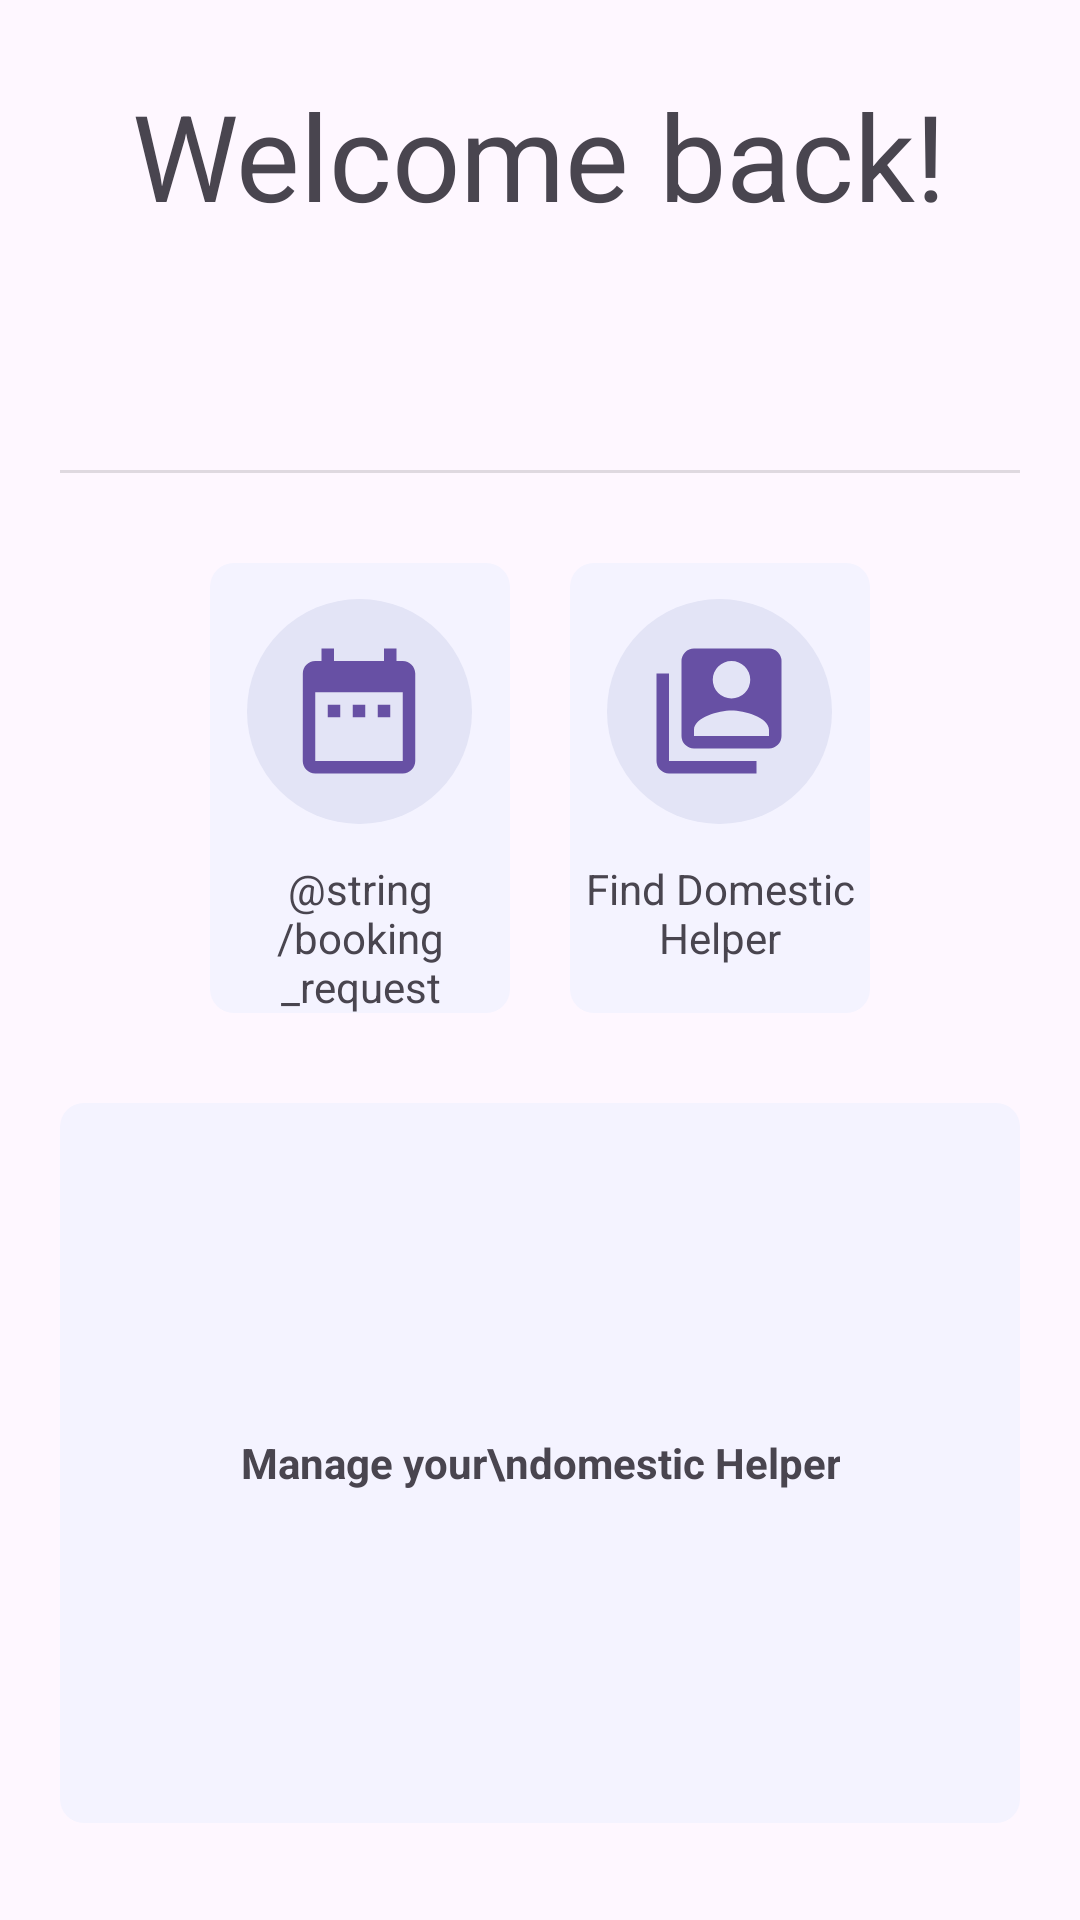

Icons on this 1080*1920 Android screen, each with its box as (x1, y1, x2, y2):
date surface tint: (302, 648, 416, 774)
